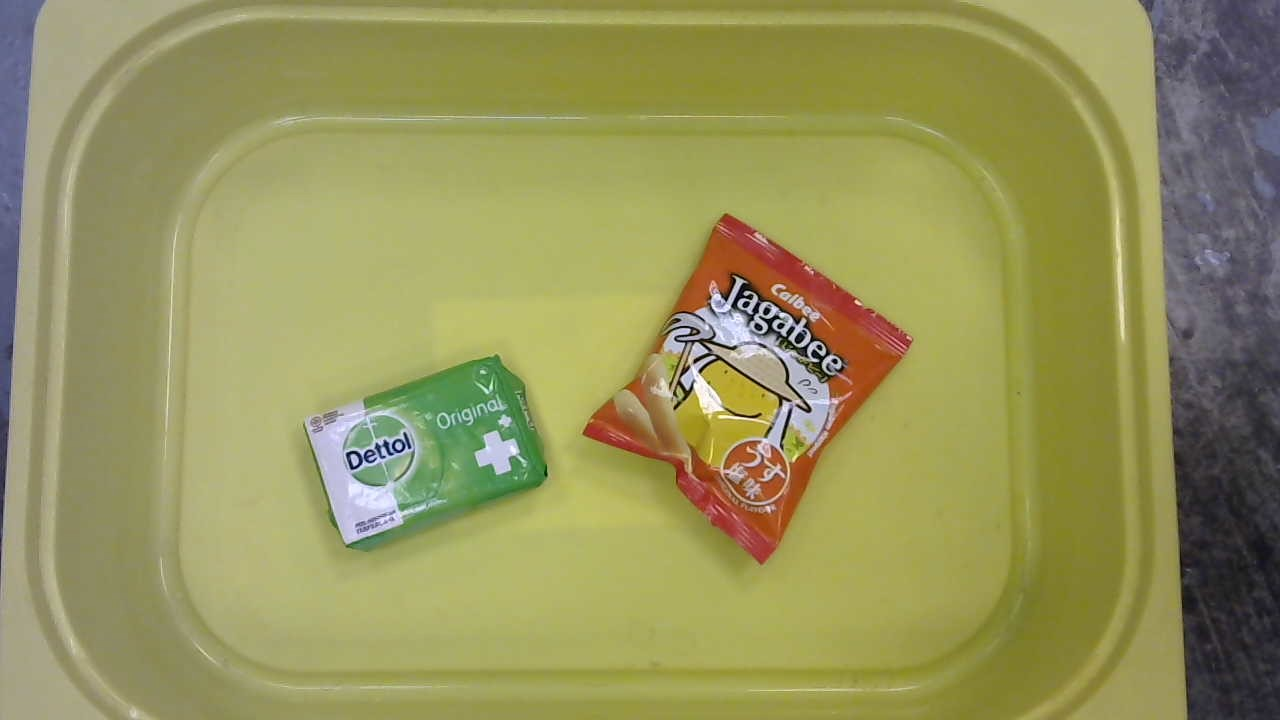Dettol: (287, 350, 554, 554)
JagabeeFarmer: (569, 206, 917, 569)
